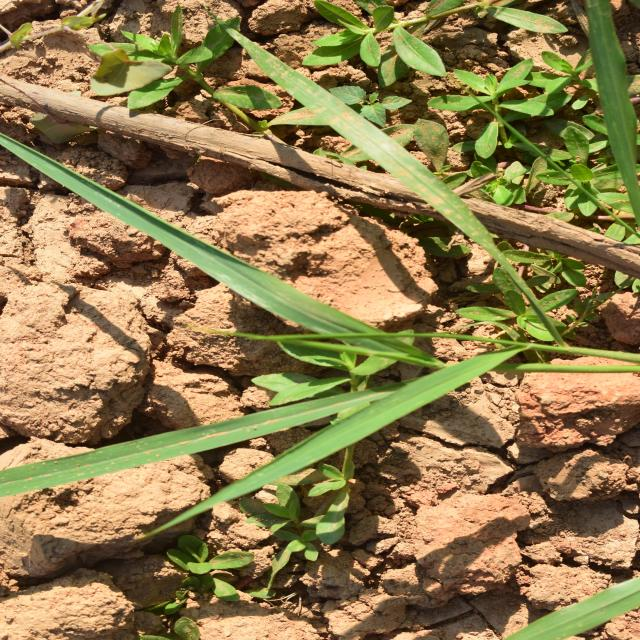green_foxtail: (101, 19, 511, 542)
